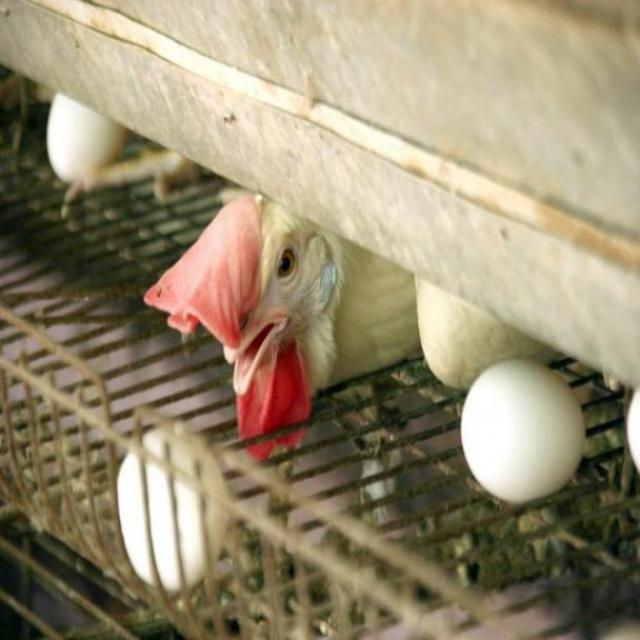Chicken: (149, 190, 417, 456)
